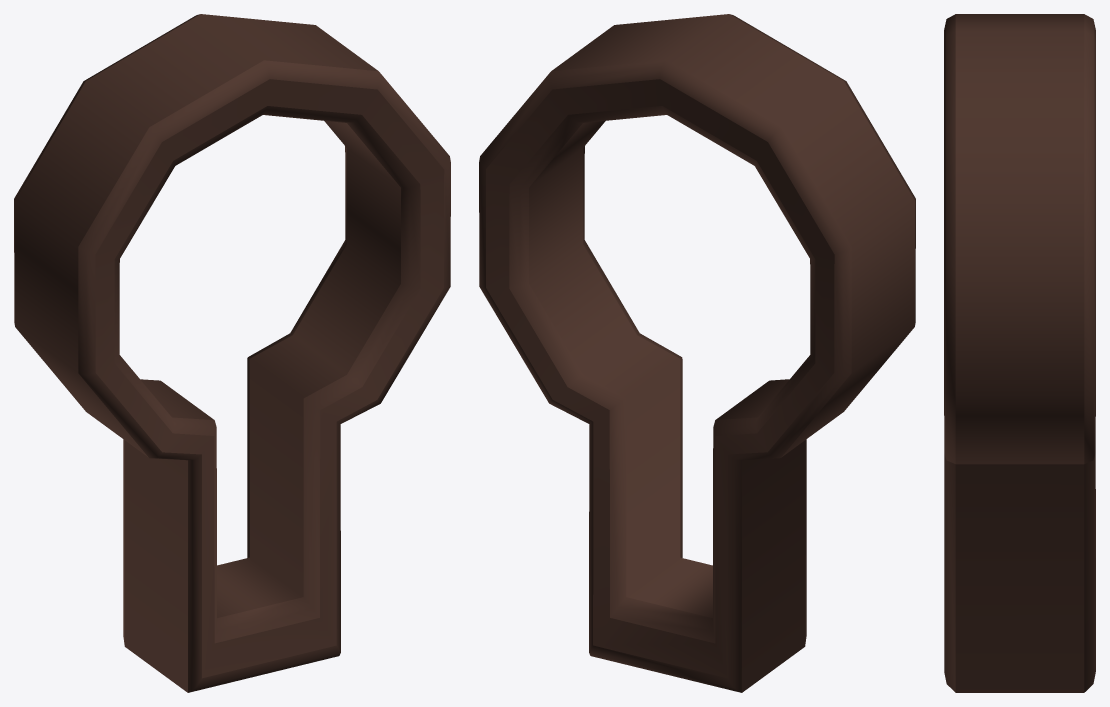
The model's file is SerrureMedievale.fbx.
The picture shows the model from 3 angles, left to right: view 1: azimuth 30°, elevation 25°; view 2: azimuth 150°, elevation 25°; view 3: azimuth 270°, elevation 25°; orthographic projection.
Visible parts, largest first — view 1: SerrureMedievale; view 2: SerrureMedievale; view 3: SerrureMedievale.
Boxes of the visible parts, left/top/right/bottom form: SerrureMedievale: left=14, top=14, right=450, bottom=692; SerrureMedievale: left=479, top=14, right=915, bottom=692; SerrureMedievale: left=944, top=14, right=1095, bottom=692.
Bounding box in the file's own units: 1.15 × 1.82 × 0.4011.
